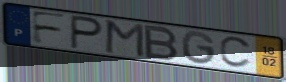B: (143, 24, 181, 62)
C: (219, 36, 254, 70)
F: (30, 9, 69, 46)
G: (180, 30, 217, 67)
M: (103, 19, 147, 60)
P: (68, 13, 105, 52)
